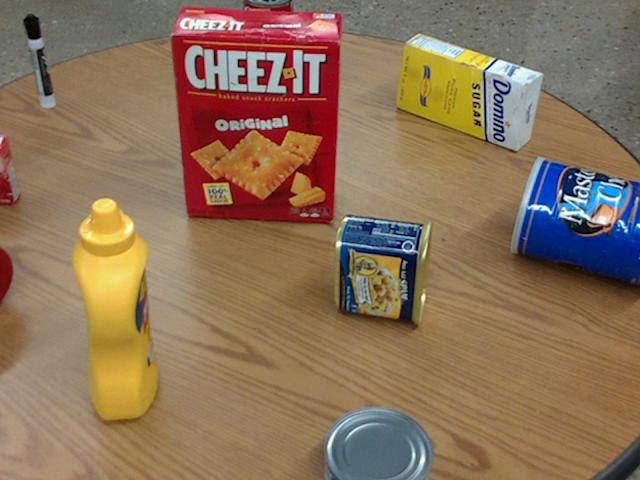cracker_box: (171, 8, 343, 218)
gelatin_box: (0, 135, 22, 203)
large_marker: (25, 14, 55, 107)
master_chef_can: (509, 156, 639, 286)
mug: (0, 244, 15, 303)
mustard_bottle: (71, 198, 158, 418)
potted_meat_can: (334, 214, 431, 325)
sugar_box: (397, 33, 544, 149)
tomato_soup_can: (244, 0, 293, 72)
tuna_fish_can: (322, 407, 430, 479)
